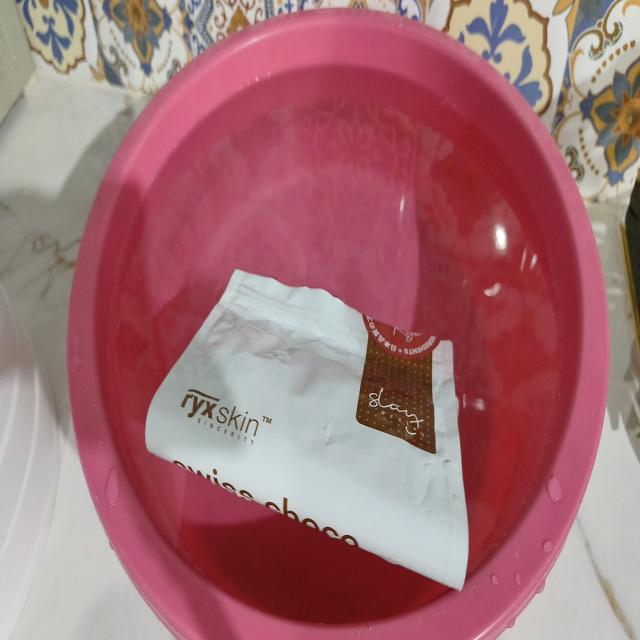Plastic Pouch: (145, 269, 468, 589)
